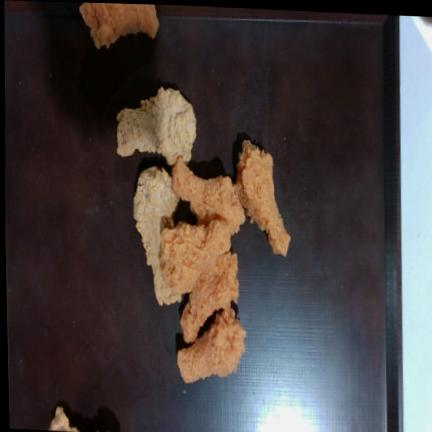chicken: (133, 166, 181, 304), (236, 140, 290, 255), (117, 86, 196, 164), (172, 160, 244, 235), (180, 251, 238, 341), (177, 307, 246, 382), (161, 221, 230, 293)
